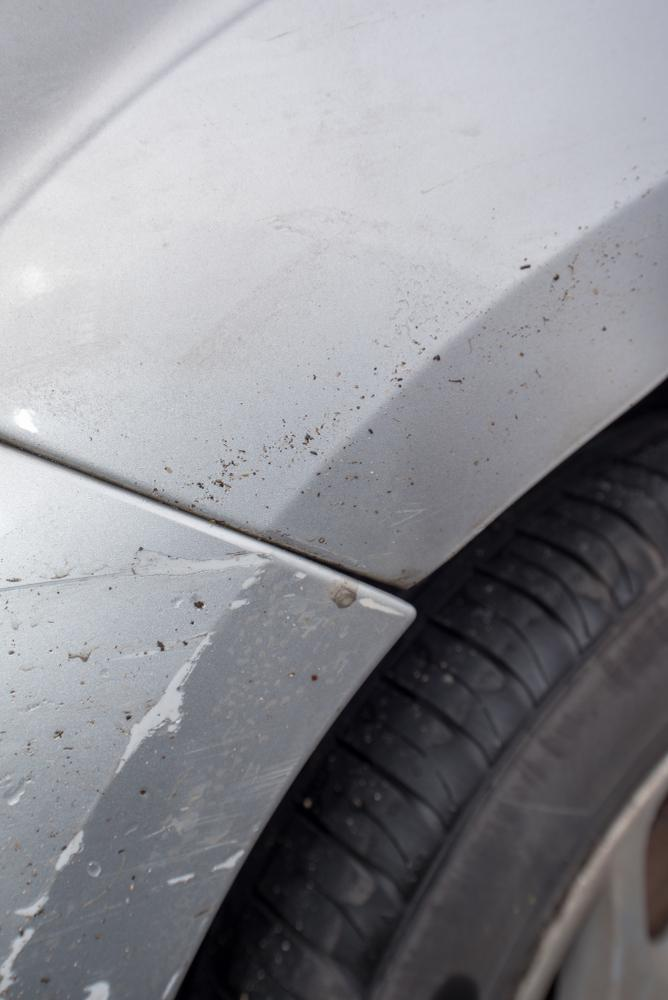scratch: (0, 540, 413, 1000)
